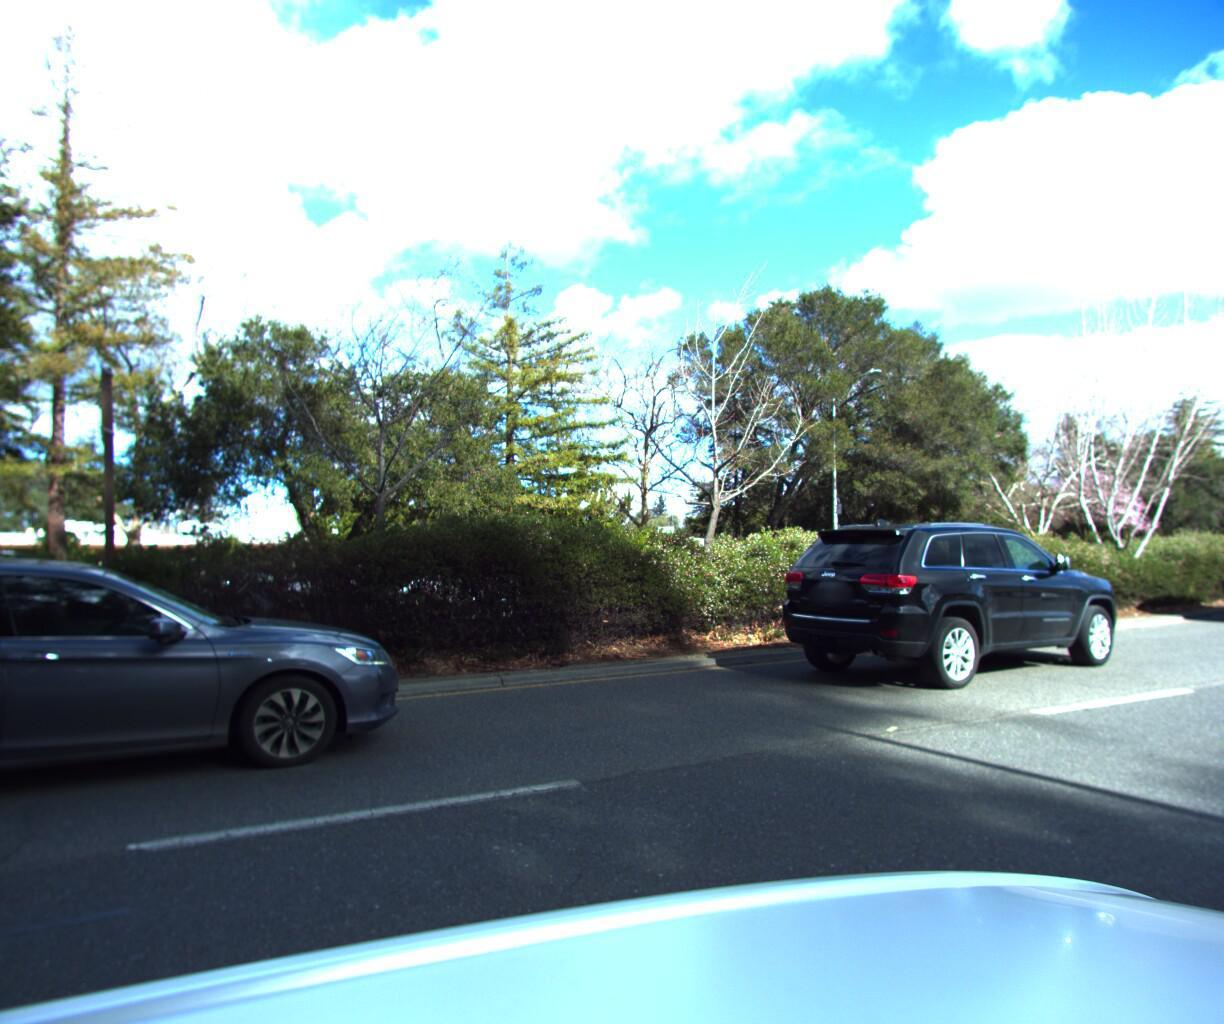car: (0, 536, 427, 870), (764, 503, 1133, 692), (0, 553, 34, 642), (1203, 520, 1224, 629)
